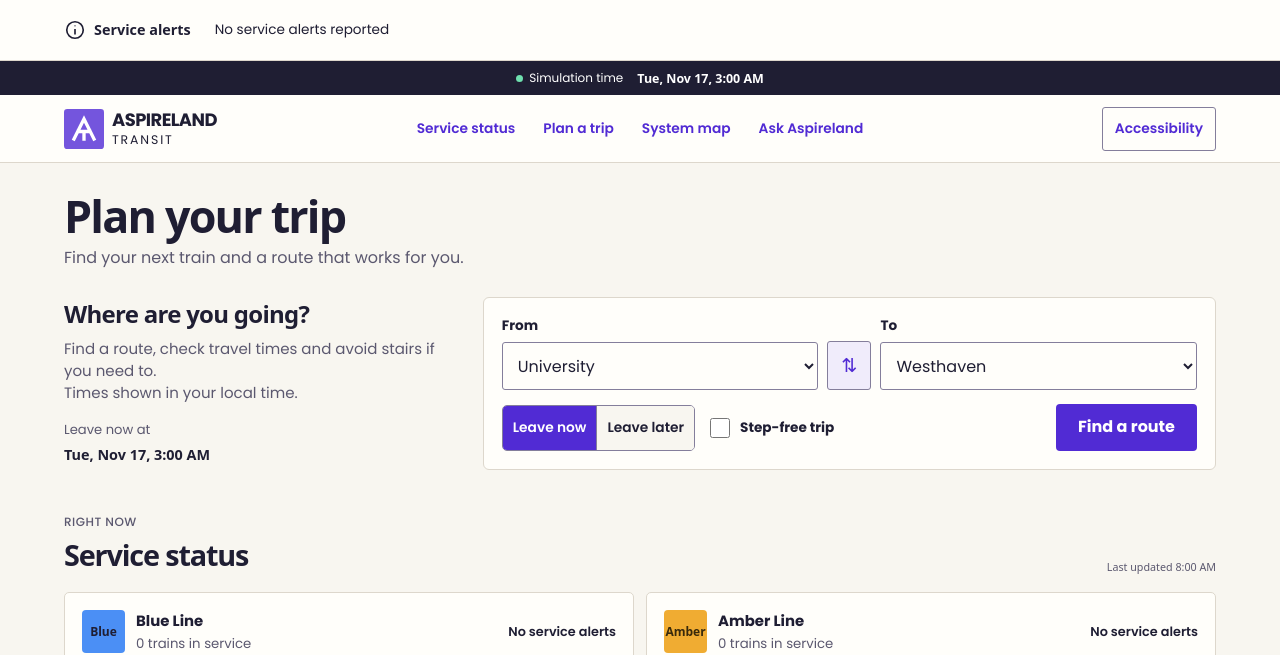
converts leave-later values from the viewer's local zone to UTC
Later steps or results of the test are not shown.
Click the button "Leave later" at (646, 428), box [597, 406, 694, 450]
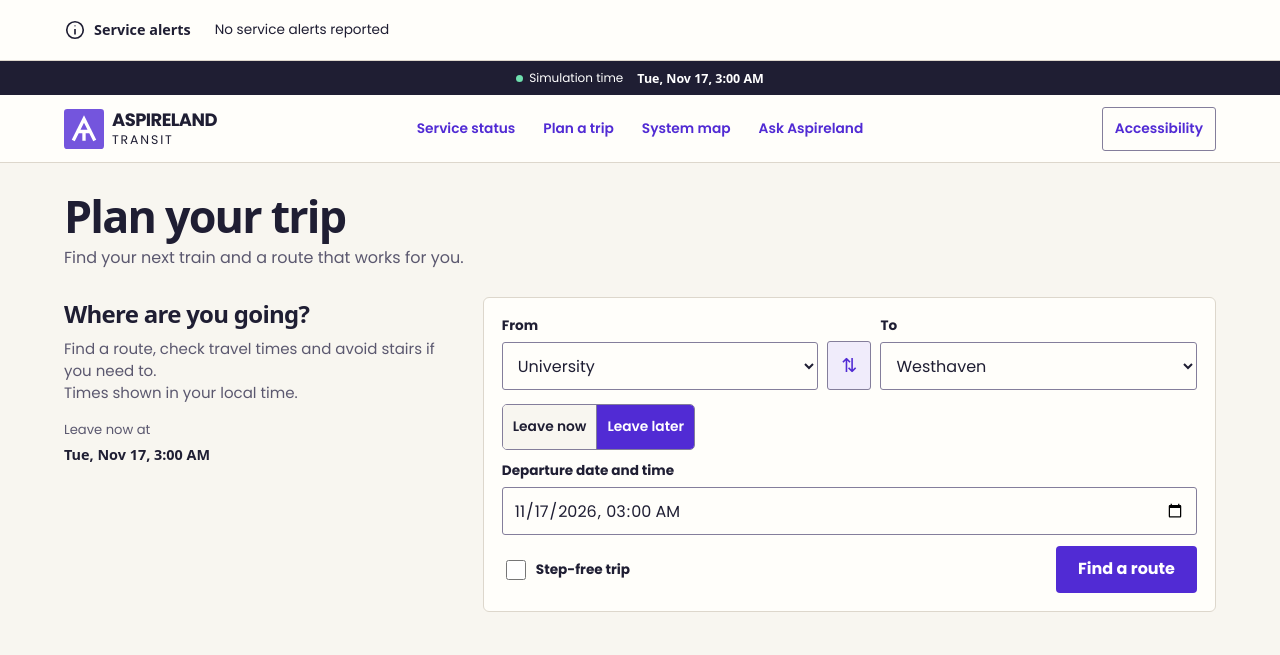
Now the field labelled "Departure date and time" holds "2026-11-17T03:00", box [502, 488, 1197, 536]
